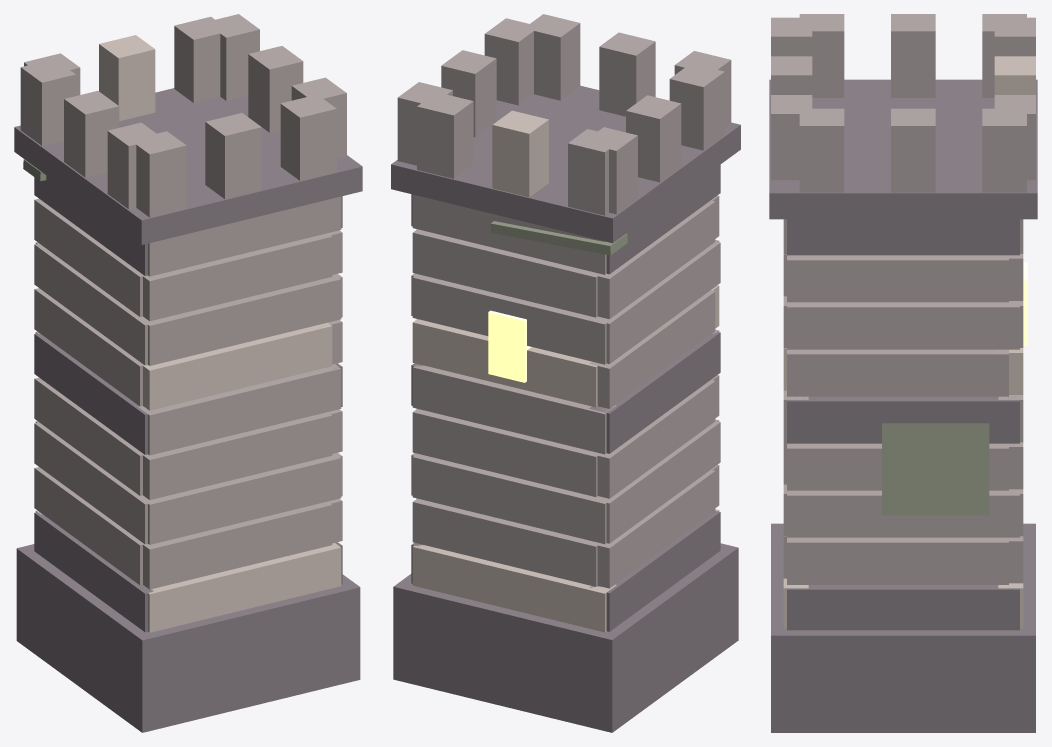
The model's file is menu_mist_watchtower.glb.
3 renders of one model, left to right at view 1: azimuth 30°, elevation 25°; view 2: azimuth 150°, elevation 25°; view 3: azimuth 270°, elevation 25°, orthographic. The views are drawn at different scales.
Parts seen in each view (by area): view 1: Moonpost Mist Watchtower; view 2: Moonpost Mist Watchtower; view 3: Moonpost Mist Watchtower.
Part boxes in pixels (x1,y1,x2,y2): Moonpost Mist Watchtower: (14, 14, 362, 732); Moonpost Mist Watchtower: (391, 14, 740, 732); Moonpost Mist Watchtower: (769, 14, 1037, 732).
Bounding box in the file's own units: 7.5 × 18.7 × 7.5.
